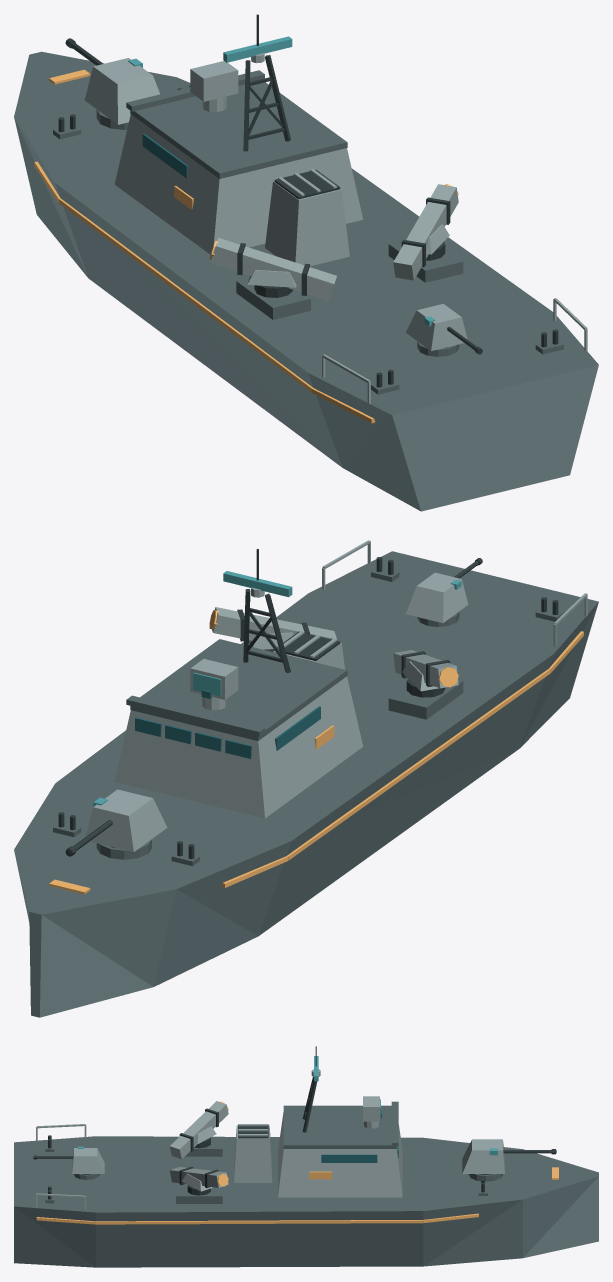
Rendered from ESC_STK_T1.fbx.
3 views of the same model, one above another, from view 1: azimuth 30°, elevation 25°; view 2: azimuth 150°, elevation 25°; view 3: azimuth 270°, elevation 25° (orthographic). The views are drawn at different scales.
Parts seen in each view (by area): view 1: ContinuousHull.001, Deckhouse.001, Roof.001, FunnelEnclosure.001, PrimaryGunCupola.001, MissileBankPortTube1, MissileBankStarboardTube1, AftGunCupola.001, RoleHullStripe-1_1.001, FireControlHousing, MissileBankPortFoundation, MissileBankStarboardFoundation (+5 smaller); view 2: ContinuousHull.001, Deckhouse.001, Roof.001, PrimaryGunCupola.001, AftGunCupola.001, RoleHullStripe-1_1.001, MissileBankStarboardTube1, BridgeBrow.001, MissileBankPortFoundation, FireControlHousing, MissileBankPortTube1, ExhaustGrille.001 (+2 smaller); view 3: ContinuousHull.001, Deckhouse.001, Roof.001, FunnelEnclosure.001, PrimaryGunCupola.001, RoleHullStripe1_1.001, MissileBankPortTube1, AftGunCupola.001, MissileBankStarboardFoundation, MissileBankStarboardTube1, BridgeSideGlass1.001, MissileBankPortFoundation (+2 smaller).
Part boxes in pixels (bbox=[...]): ContinuousHull.001: bbox=[14, 51, 598, 511]; Deckhouse.001: bbox=[114, 114, 362, 254]; Roof.001: bbox=[130, 82, 347, 178]; FunnelEnclosure.001: bbox=[265, 181, 349, 266]; PrimaryGunCupola.001: bbox=[84, 58, 159, 124]; MissileBankPortTube1: bbox=[210, 237, 336, 300]; MissileBankStarboardTube1: bbox=[393, 184, 458, 280]; AftGunCupola.001: bbox=[406, 304, 467, 350]; RoleHullStripe-1_1.001: bbox=[58, 198, 312, 392]; FireControlHousing: bbox=[190, 61, 238, 101]; MissileBankPortFoundation: bbox=[236, 278, 310, 319]; MissileBankStarboardFoundation: bbox=[388, 239, 463, 282]; ContinuousHull.001: bbox=[14, 551, 598, 1017]; Deckhouse.001: bbox=[114, 676, 362, 818]; Roof.001: bbox=[130, 639, 347, 740]; PrimaryGunCupola.001: bbox=[85, 789, 167, 851]; AftGunCupola.001: bbox=[406, 572, 468, 622]; RoleHullStripe-1_1.001: bbox=[286, 669, 550, 860]; MissileBankStarboardTube1: bbox=[212, 607, 336, 640]; BridgeBrow.001: bbox=[126, 695, 264, 736]; MissileBankPortFoundation: bbox=[388, 679, 463, 719]; FireControlHousing: bbox=[190, 659, 238, 699]; MissileBankPortTube1: bbox=[393, 650, 458, 688]; ExhaustGrille.001: bbox=[274, 631, 340, 660]; ContinuousHull.001: bbox=[14, 1136, 598, 1267]; Deckhouse.001: bbox=[278, 1112, 402, 1197]; Roof.001: bbox=[283, 1105, 396, 1148]; FunnelEnclosure.001: bbox=[234, 1125, 272, 1182]; PrimaryGunCupola.001: bbox=[462, 1139, 504, 1173]; RoleHullStripe1_1.001: bbox=[96, 1220, 423, 1224]; MissileBankPortTube1: bbox=[169, 1101, 228, 1159]; AftGunCupola.001: bbox=[72, 1148, 104, 1173]; MissileBankStarboardFoundation: bbox=[176, 1184, 222, 1203]; MissileBankStarboardTube1: bbox=[169, 1167, 228, 1187]; BridgeSideGlass1.001: bbox=[321, 1154, 377, 1162]; MissileBankPortFoundation: bbox=[176, 1137, 222, 1156].
Bounding box in the file's own units: 281 × 329 × 900.
